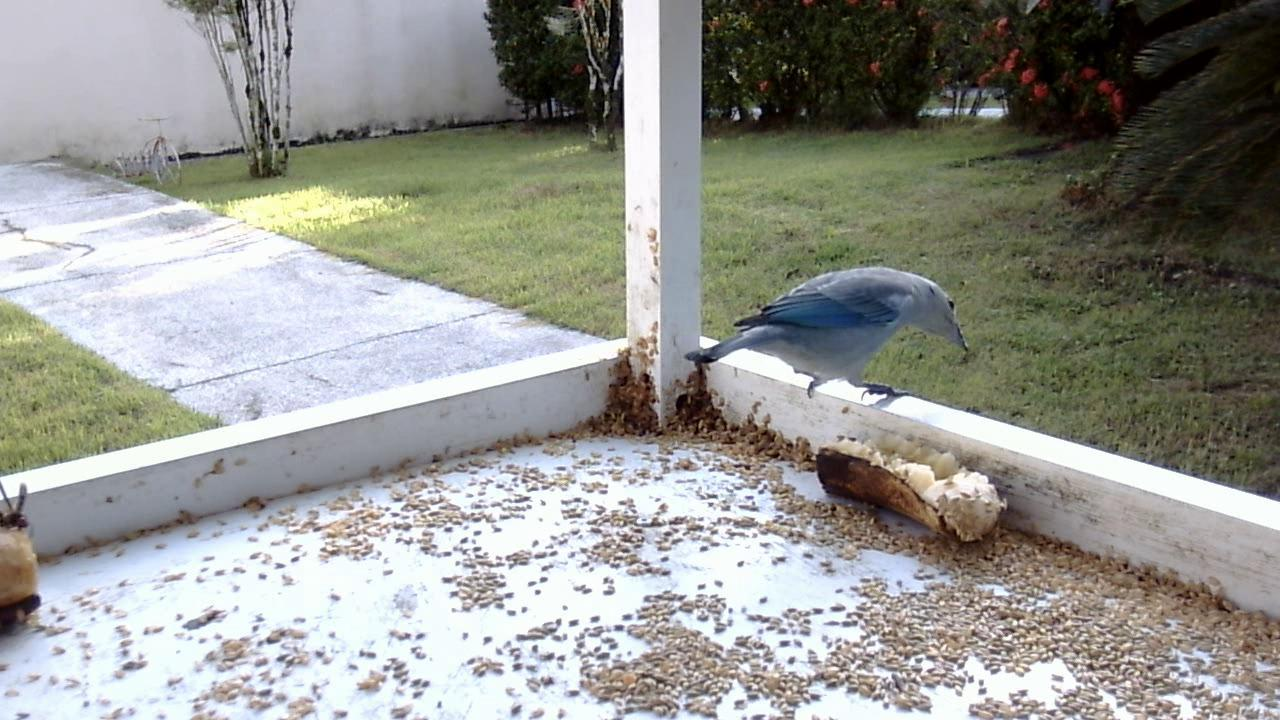sanhaco_da_amazonia: (684, 263, 969, 419)
